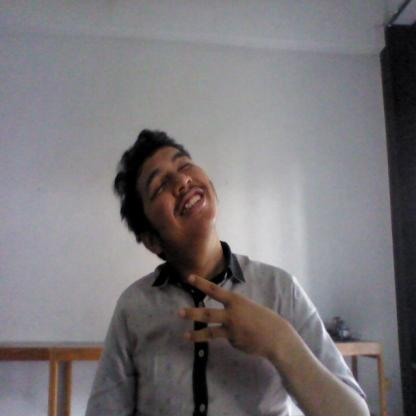E: (176, 273, 270, 358)
